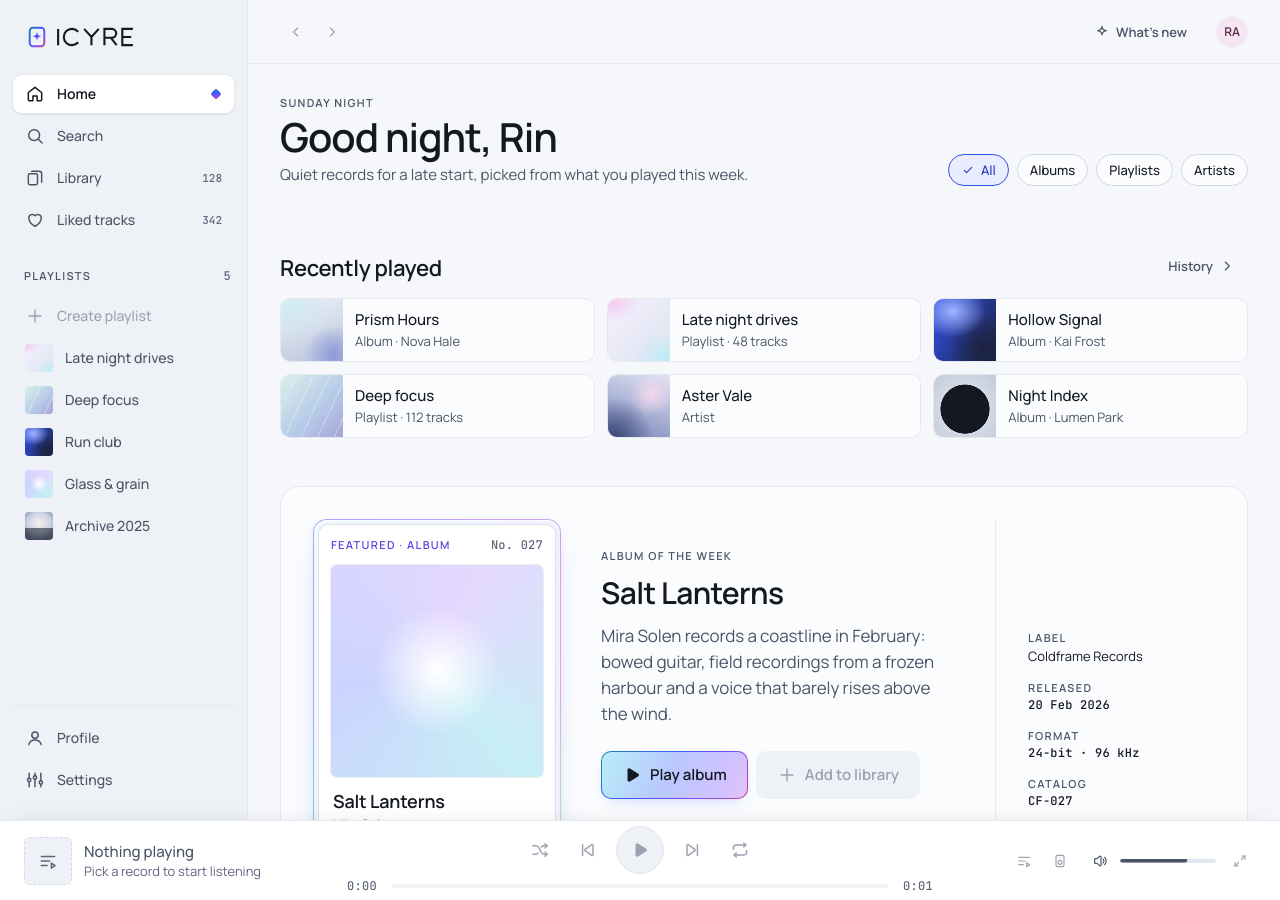
Album screen › opens from a Home card
Click the link "Prism Hours Album · Nova Hale": (408,330) [355,309,460,350]
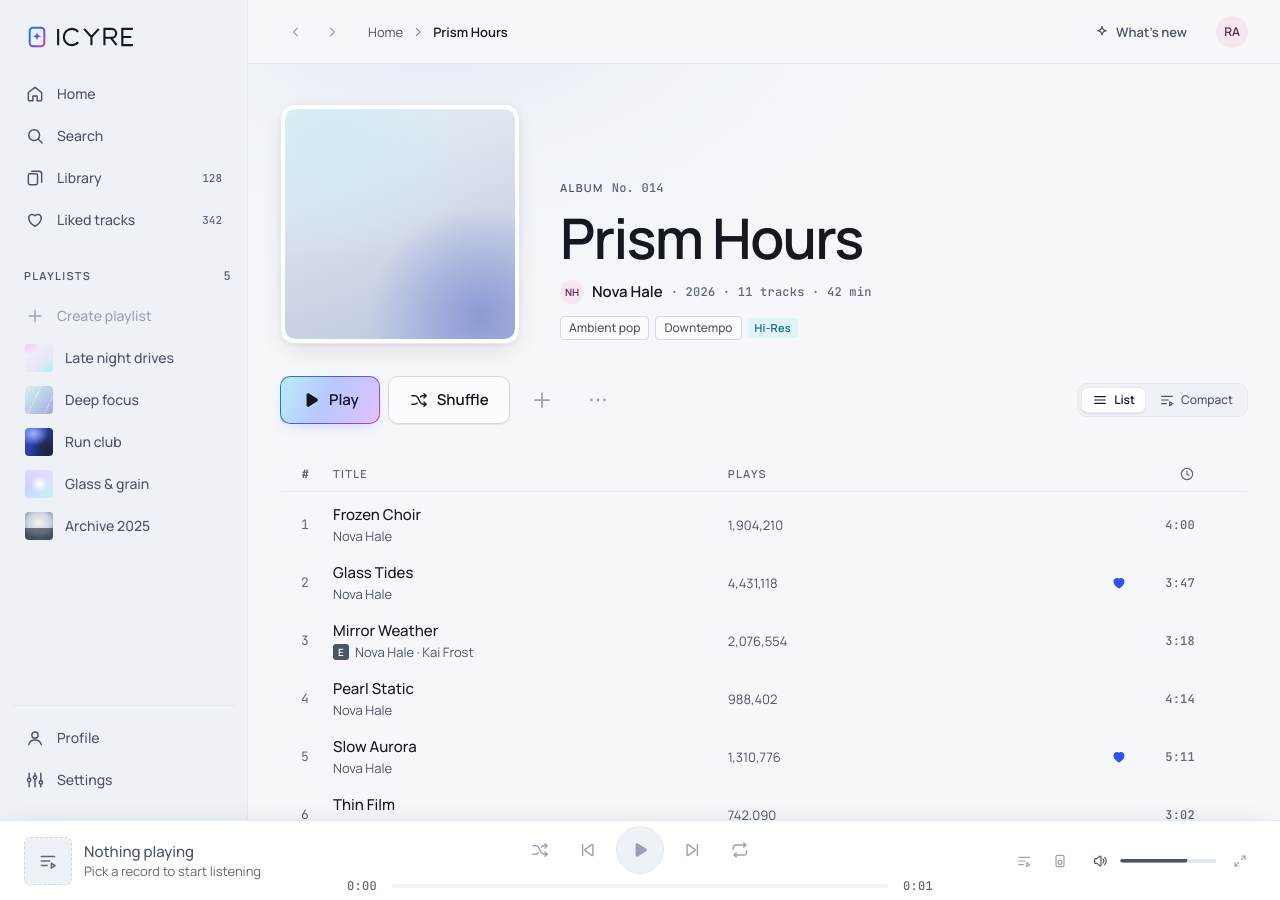
Result: the heading "Prism Hours" is shown at [560,199,862,276]
